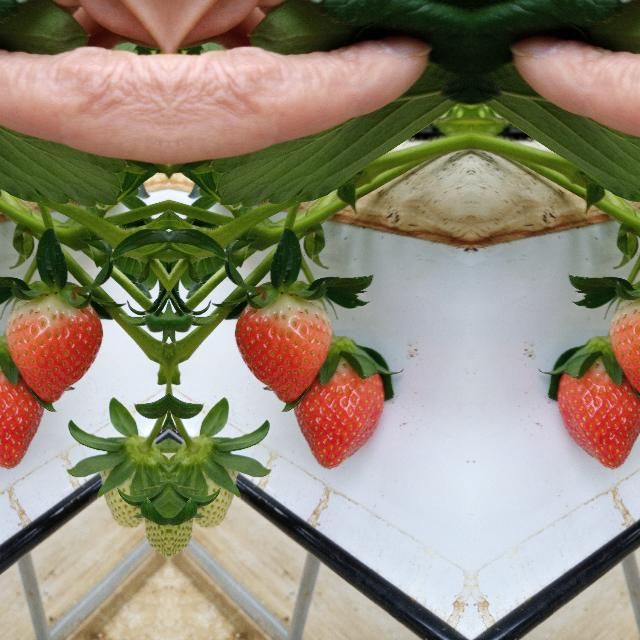Health_100: (232, 291, 332, 403), (5, 291, 104, 403), (291, 356, 385, 469), (556, 356, 640, 469), (0, 356, 45, 469), (609, 291, 640, 403)
